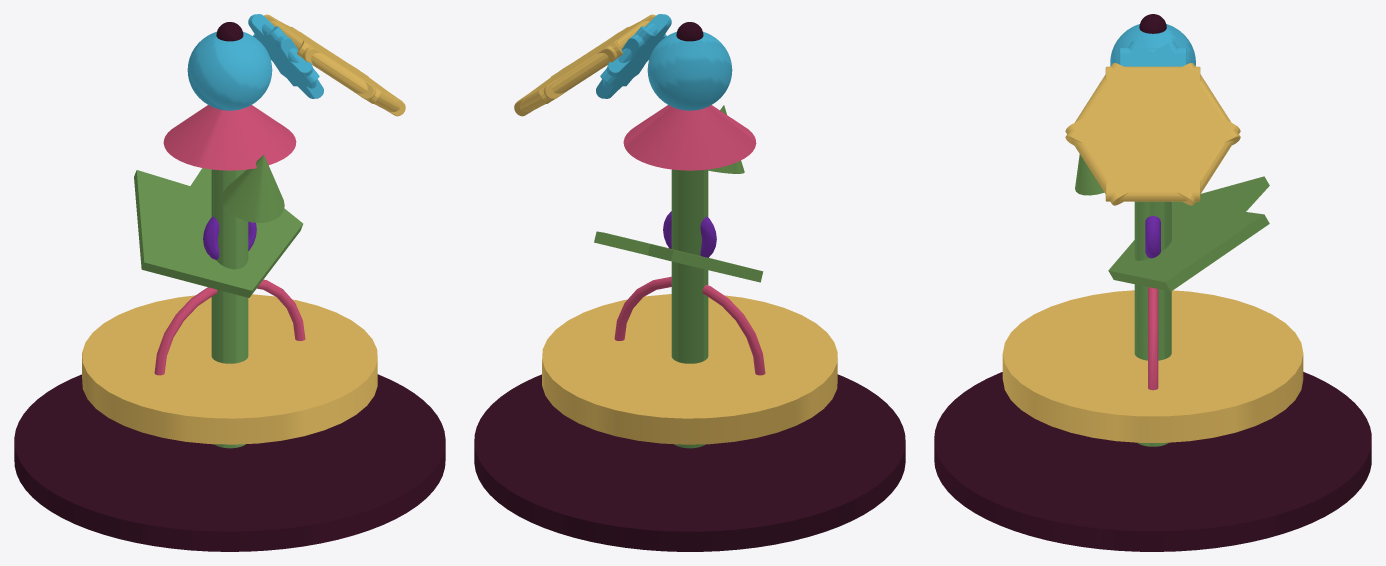
The model's file is 0086_植物图鉴_野百合.glb.
3 views of the same model, side by side, from view 1: azimuth 30°, elevation 25°; view 2: azimuth 150°, elevation 25°; view 3: azimuth 270°, elevation 25° (orthographic).
Parts seen in each view (by area): view 1: card_0086; view 2: card_0086; view 3: card_0086.
Part boxes in pixels (x1=…): card_0086: x1=14, y1=14, x2=445, y2=551; card_0086: x1=474, y1=14, x2=905, y2=551; card_0086: x1=934, y1=14, x2=1371, y2=551.
Size of the model in its own units: 0.893 by 1 by 0.8928.
